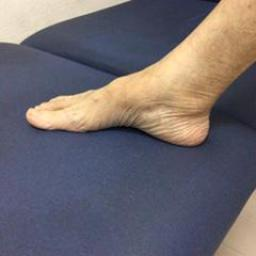Medial View -Right Foot-: (20, 34, 236, 155)
